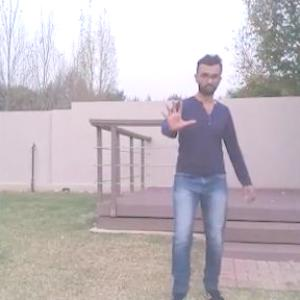follow_hand: (157, 93, 198, 133)
